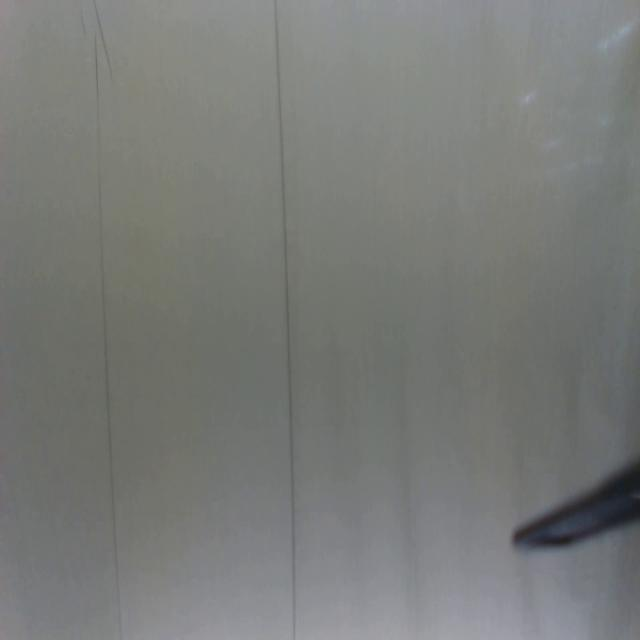crease: (93, 1, 124, 640), (274, 1, 299, 640)
